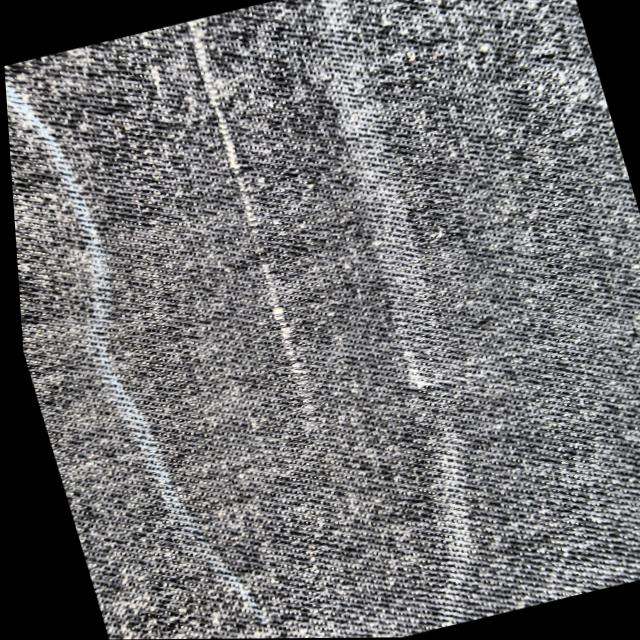Hole: (253, 313, 328, 427), (229, 230, 288, 308), (192, 107, 251, 180), (169, 18, 223, 96)
